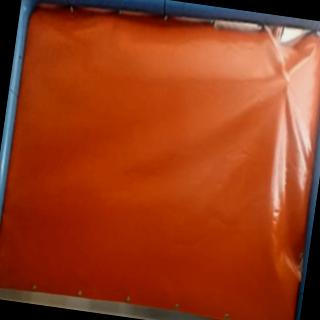Hit-hRxx: (278, 68, 296, 89)
